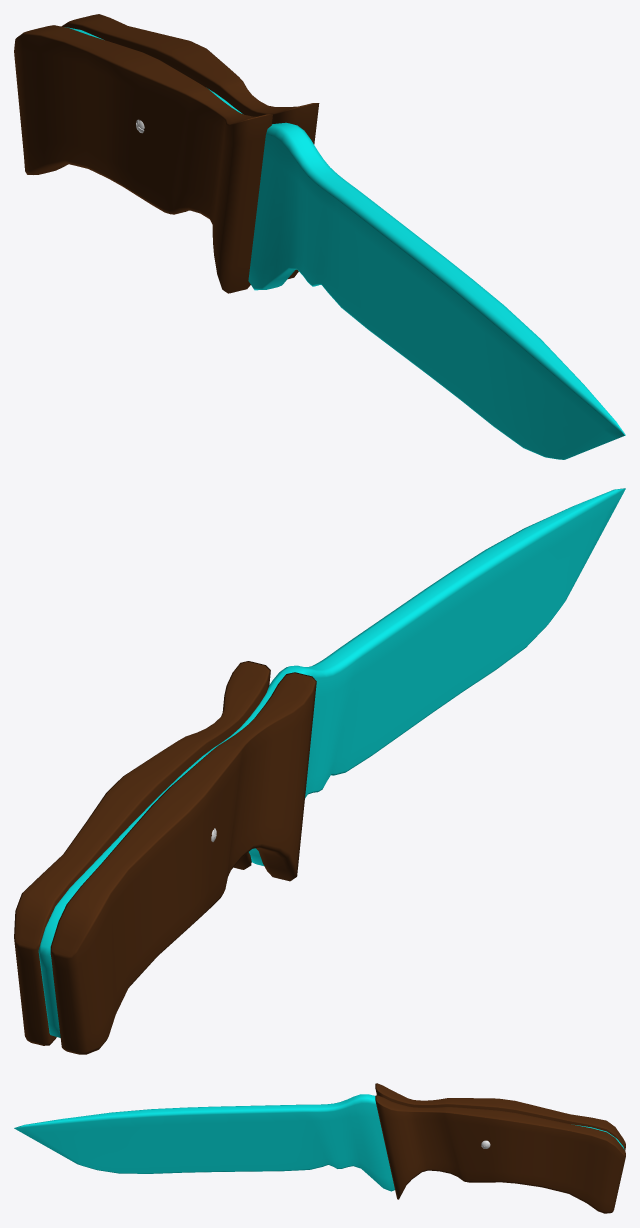
File: Cuchillo.fbx
3 renders of one model, top to bottom at view 1: azimuth 30°, elevation 25°; view 2: azimuth 150°, elevation 25°; view 3: azimuth 270°, elevation 25°, orthographic. The views are drawn at different scales.
Parts seen in each view (by area): view 1: Cuchillo2; view 2: Cuchillo2; view 3: Cuchillo2.
Boxes of the visible parts, bbox=[...] form: Cuchillo2: bbox=[14, 14, 625, 459]; Cuchillo2: bbox=[14, 488, 625, 1054]; Cuchillo2: bbox=[14, 1083, 625, 1213].
Size of the model in its own units: 1.9 by 4.65 by 22.65.
